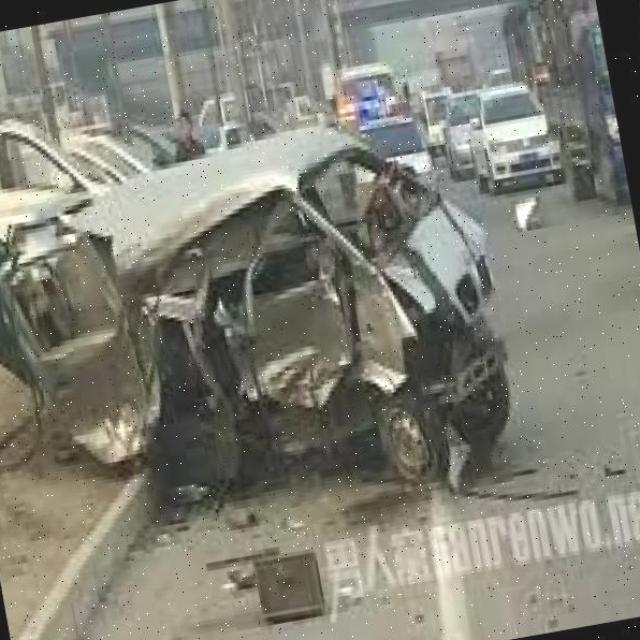accident: (0, 110, 540, 561)
